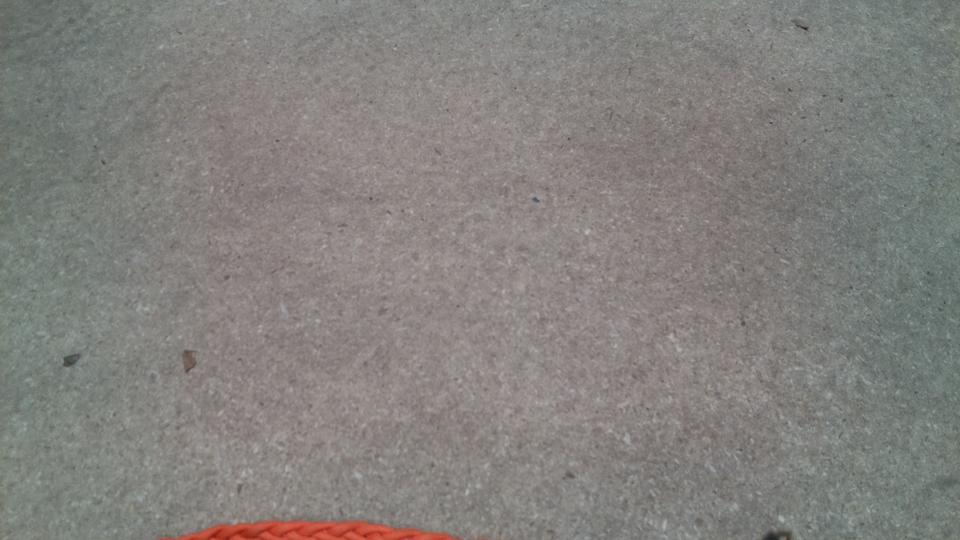rope: (163, 516, 456, 540)
